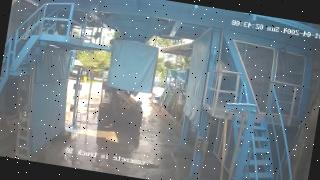cement_mixer_truck: (99, 67, 143, 129)
